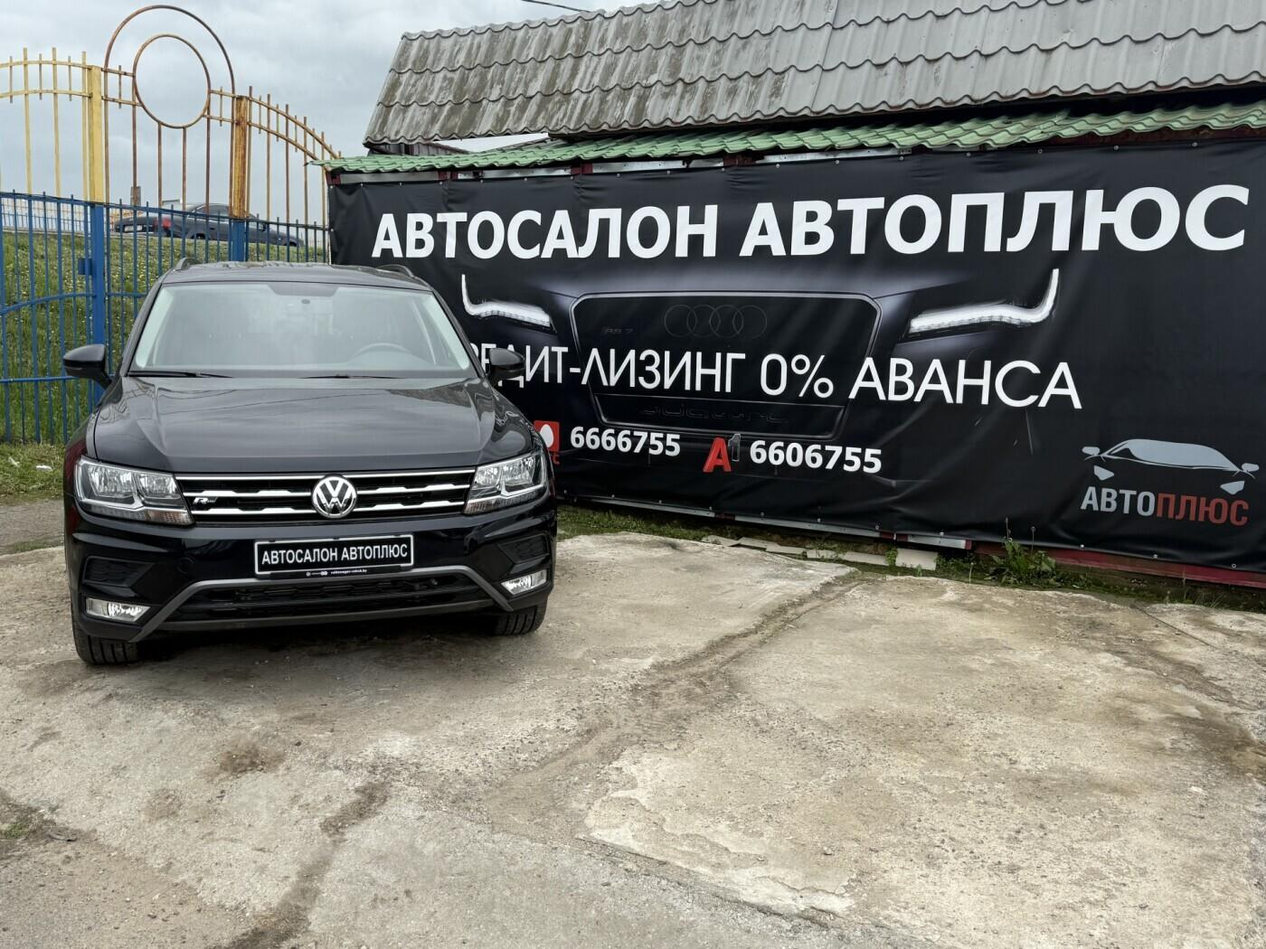Tiguan_2016-2021: (58, 260, 555, 660)
